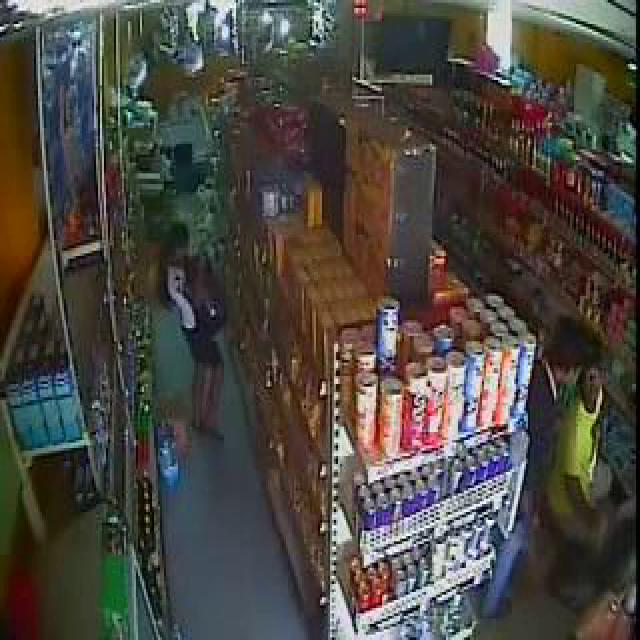shoplifting: (154, 71, 304, 513)
